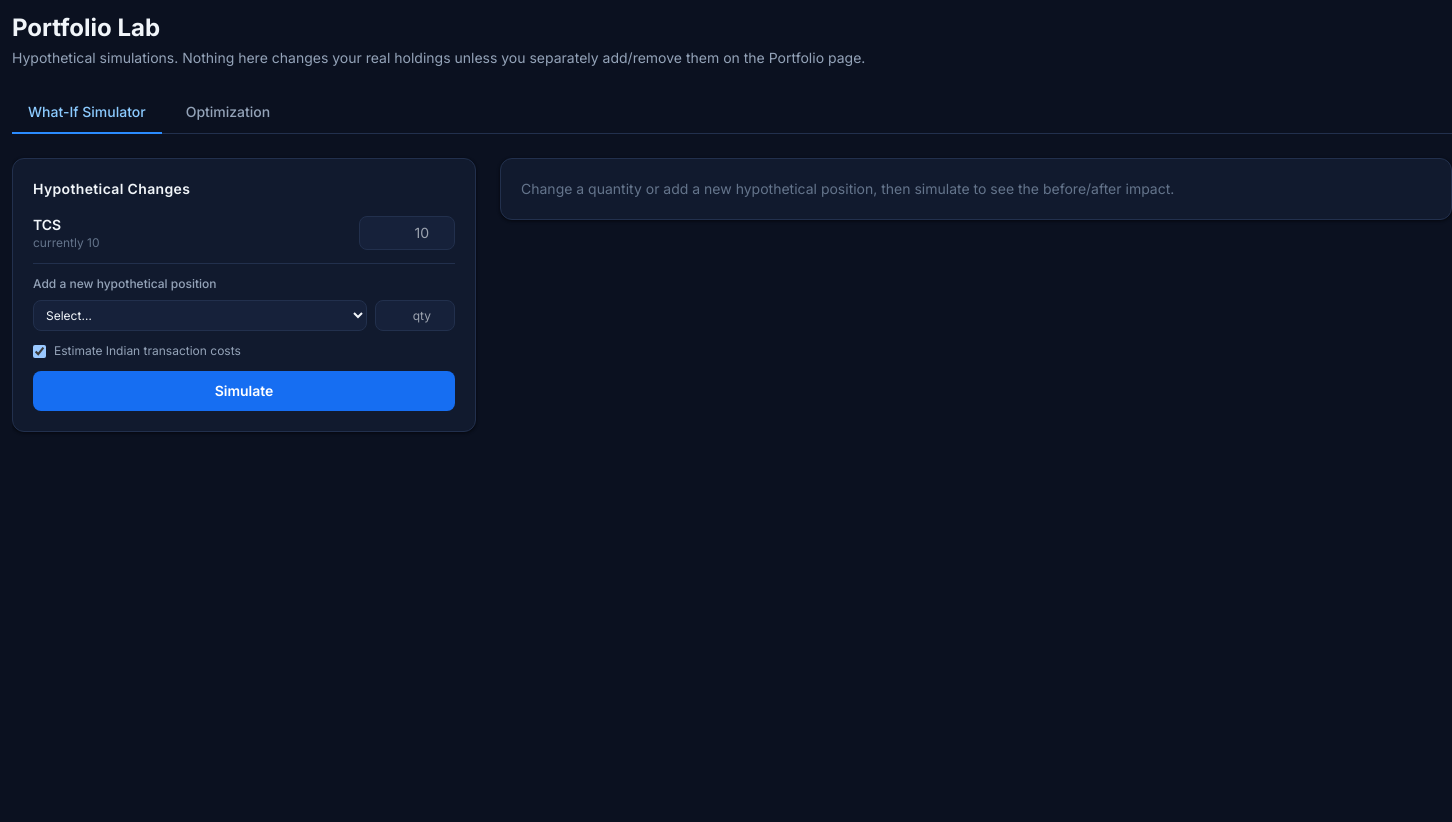
Test: PortfolioLabPage - Optimization tab › runs the optimizer and renders the suggested allocation
The width and height of the screenshot is (1452, 822).
Click the button "Optimization" at (228, 113), box [170,92,286,134]
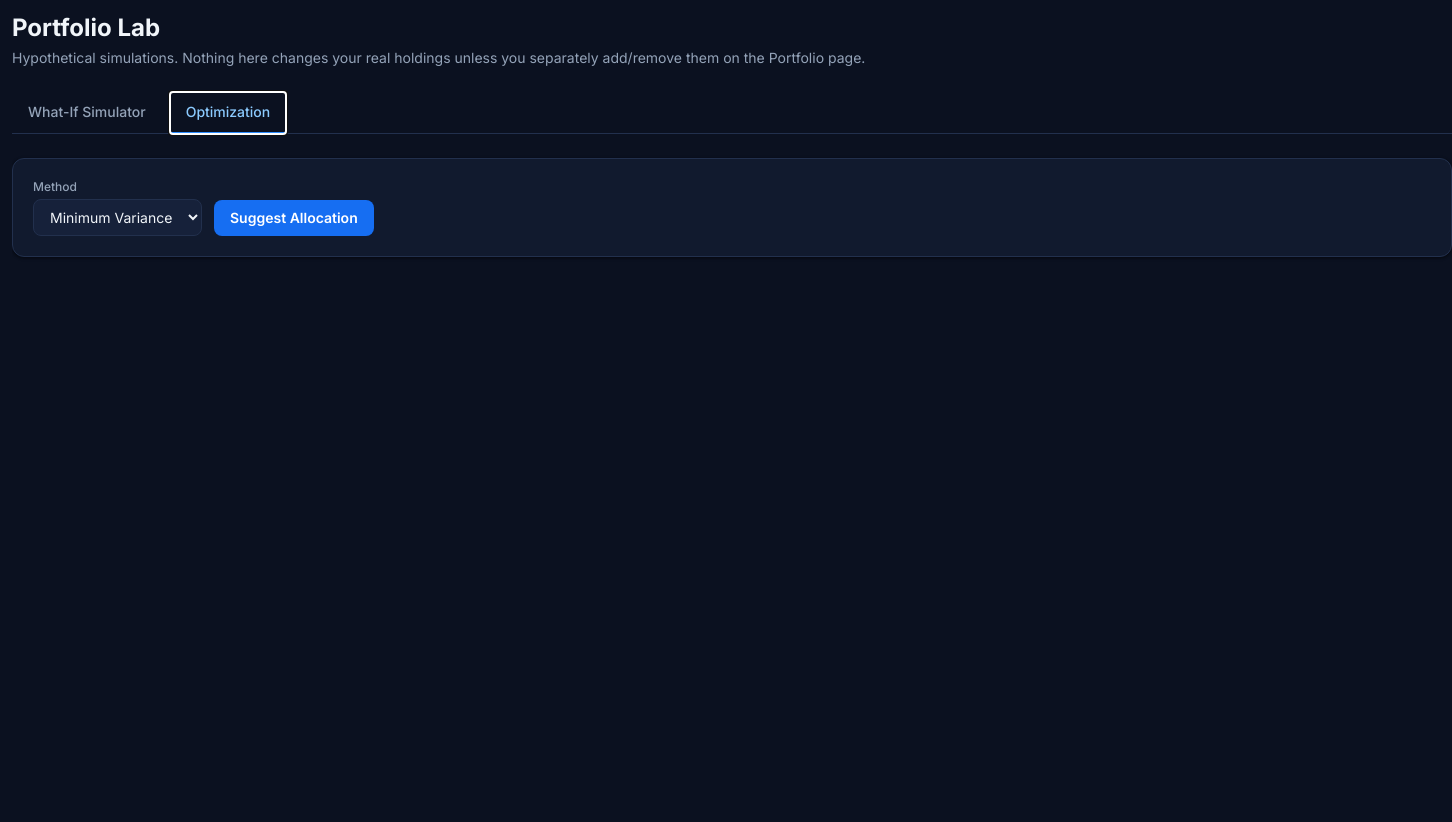
Click the button "Suggest Allocation" at (294, 218), box [214,200,374,236]
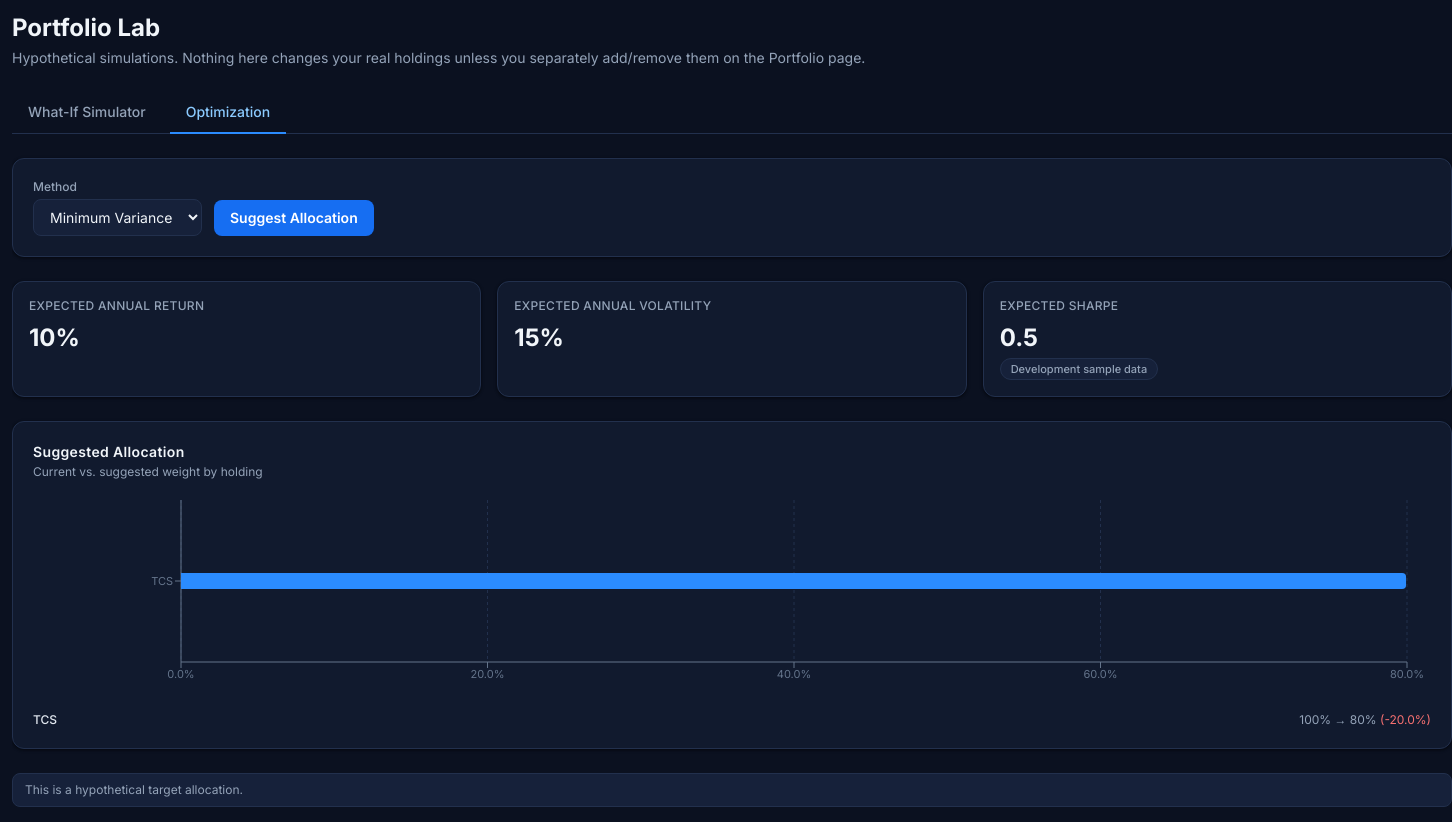
Expected: the text "This is a hypothetical target allocation." is shown, [12,773,1451,807]
Expected: the text "Expected Sharpe" is shown, [1000,298,1118,314]
